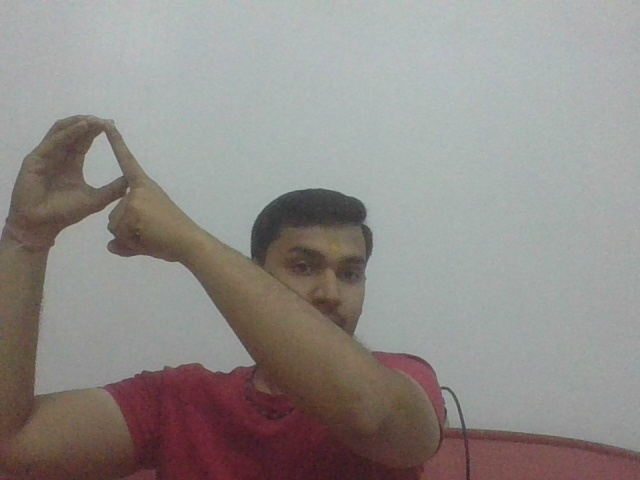D: (7, 110, 188, 261)
